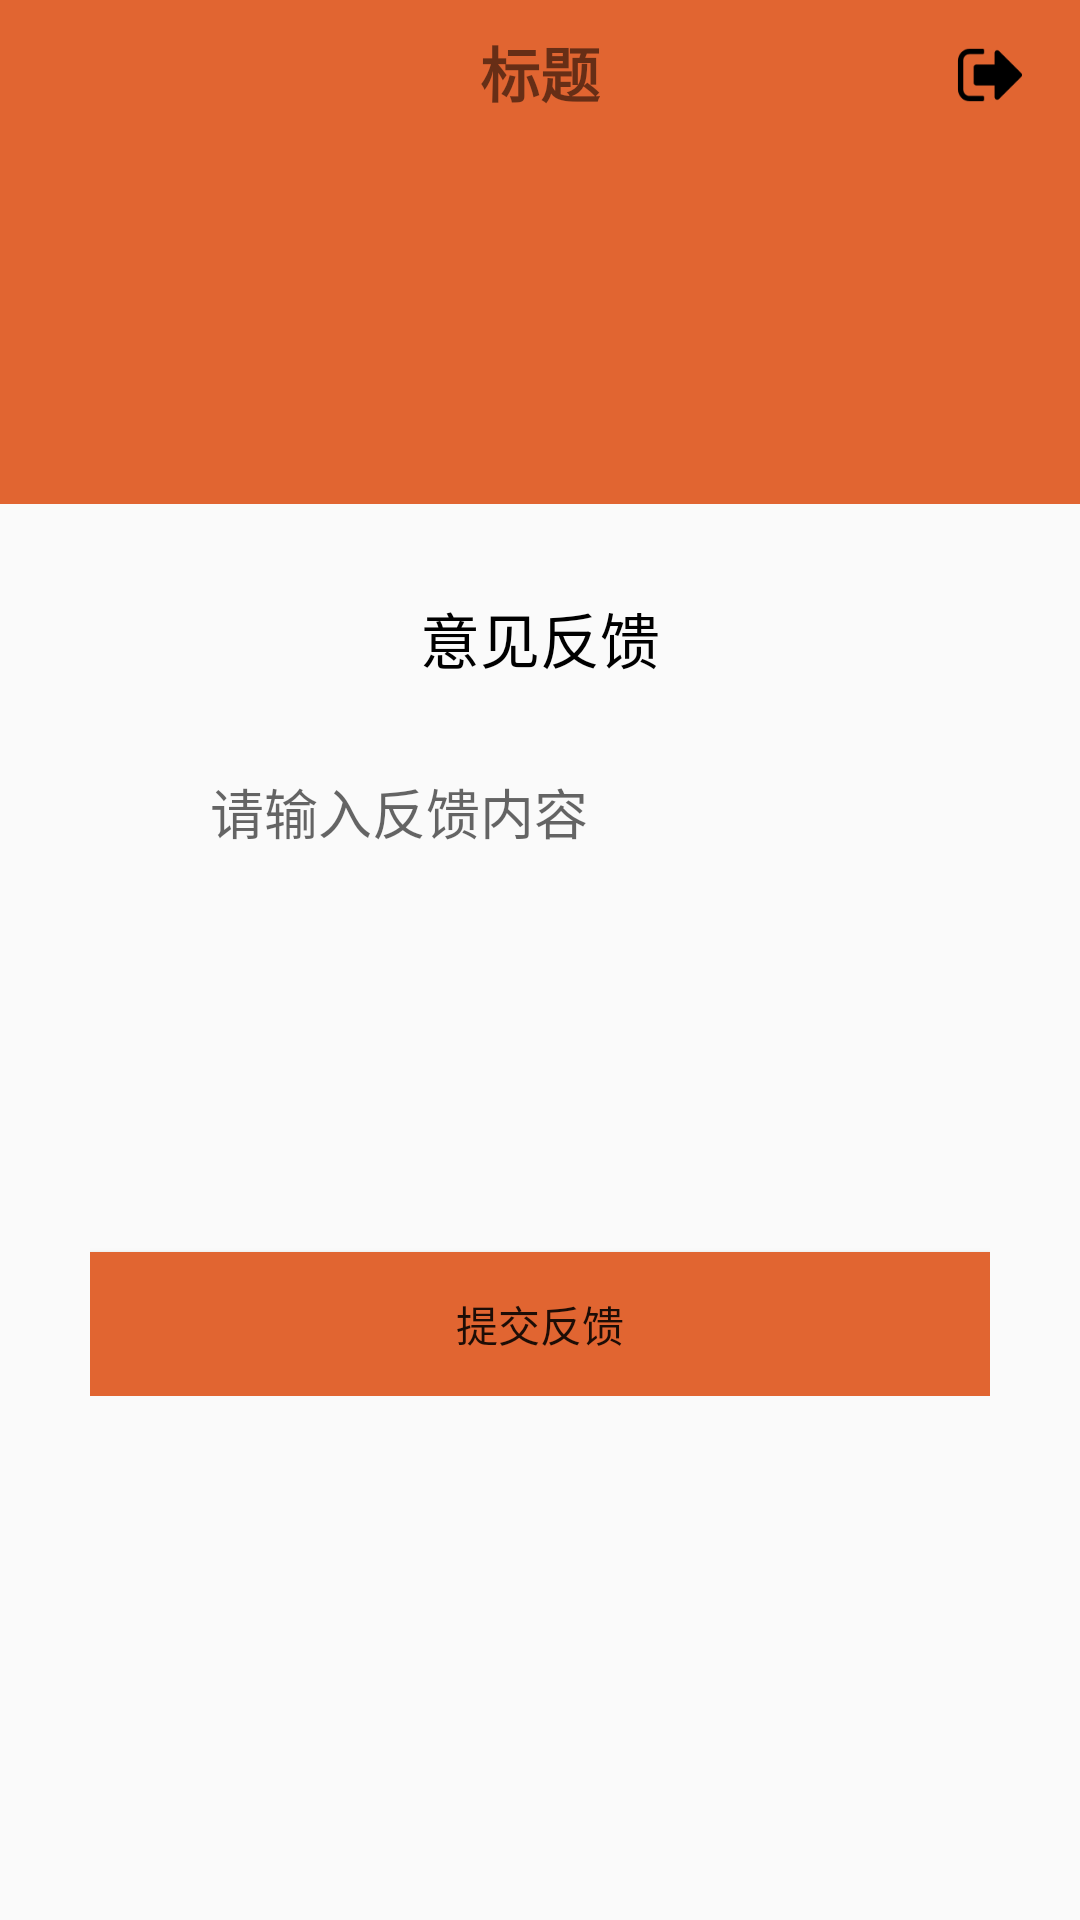

Icons on this 1080*1920 Android screen, each with the point to tap as point (x, y):
title exit: point (990, 75)
